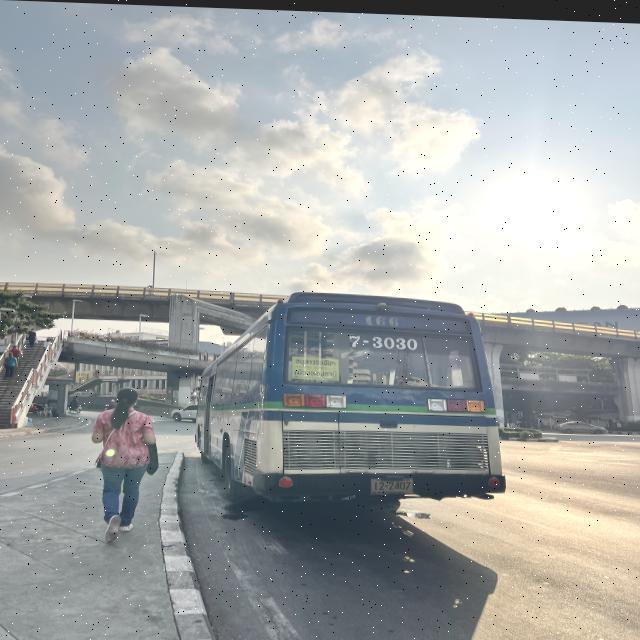BMTA-bus: (195, 288, 508, 514)
Bus-Line-Number: (356, 308, 409, 331)
Destination-Sign-Normal: (291, 351, 338, 379)
